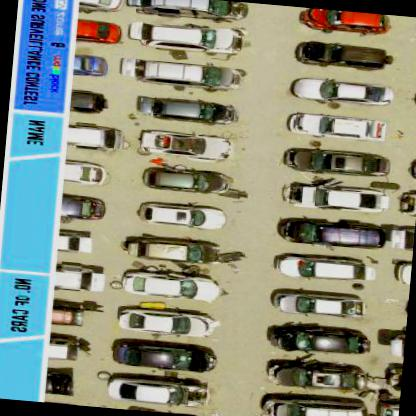car: (119, 232, 243, 270), (122, 58, 244, 92), (126, 21, 238, 57), (280, 146, 390, 180), (111, 338, 217, 373), (140, 165, 244, 200), (278, 216, 382, 250), (278, 181, 382, 214), (264, 360, 364, 394), (270, 325, 370, 359), (103, 376, 209, 408), (136, 94, 240, 126), (290, 77, 390, 109), (295, 39, 388, 73), (286, 112, 388, 142), (138, 130, 235, 161), (270, 290, 366, 321), (298, 7, 390, 38), (122, 272, 220, 301), (273, 255, 365, 285), (137, 202, 228, 232), (115, 310, 212, 338), (147, 0, 247, 22), (265, 400, 369, 415), (66, 126, 124, 152), (62, 197, 107, 221), (64, 163, 107, 185), (73, 56, 107, 80), (80, 0, 123, 13)
